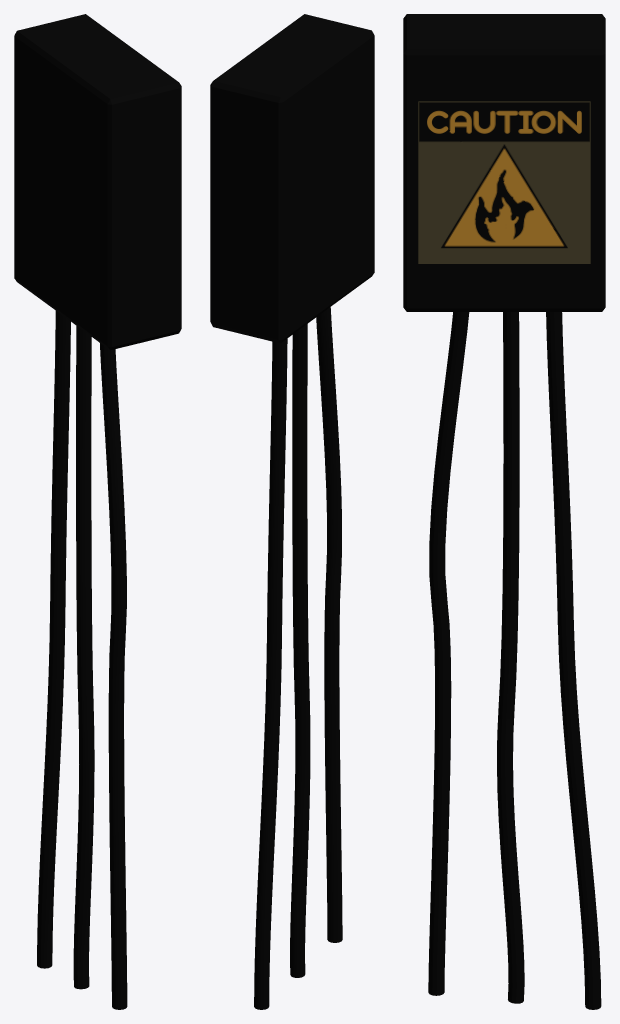
The model's file is electrical_box.fbx.
3 renders of one model, left to right at view 1: azimuth 30°, elevation 25°; view 2: azimuth 150°, elevation 25°; view 3: azimuth 270°, elevation 25°, orthographic. The views are drawn at different scales.
Visible parts, largest first — view 1: Cube.013; view 2: Cube.013; view 3: Cube.013.
Part boxes in pixels (box(x1,y1,x2,y2)): Cube.013: box(14, 14, 181, 1009); Cube.013: box(210, 14, 374, 1009); Cube.013: box(403, 14, 605, 1009).
Bounding box in the file's own units: 20.32 × 242 × 45.24.
